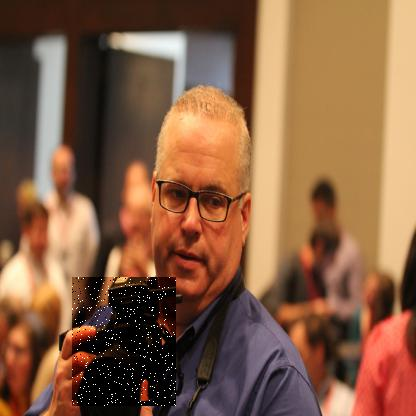Camera: (73, 278, 178, 408)
